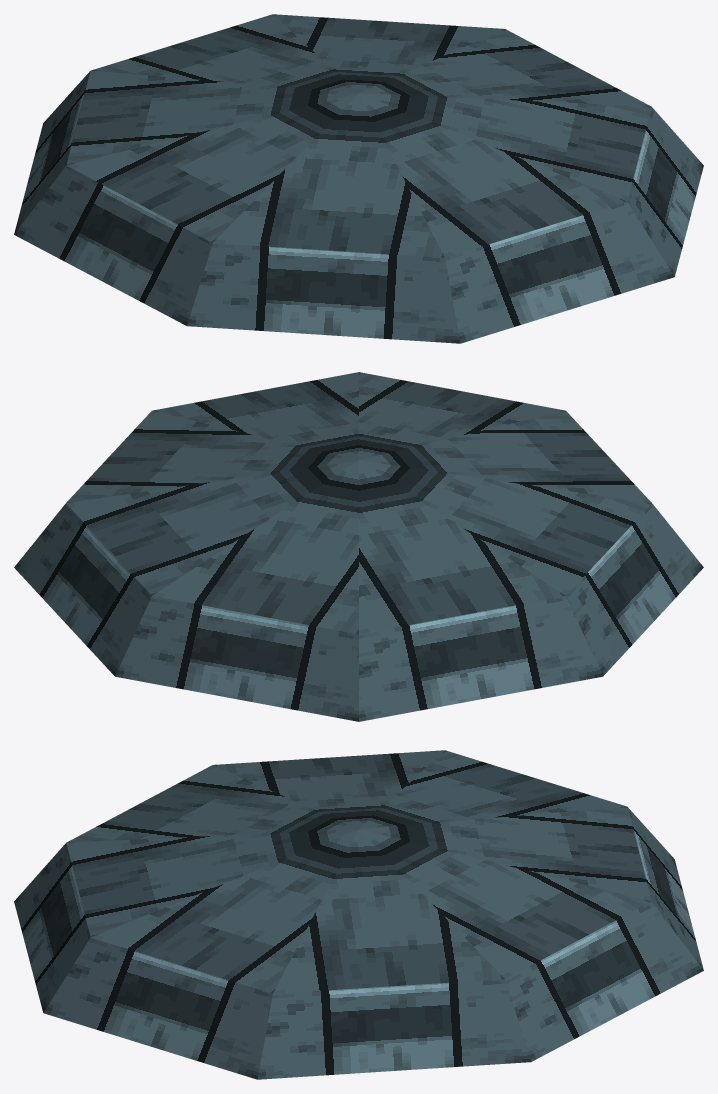
File: primary_105.glb
3 views of the same model, one above another, from view 1: azimuth 30°, elevation 25°; view 2: azimuth 150°, elevation 25°; view 3: azimuth 270°, elevation 25° (orthographic).
Visible parts, largest first — view 1: Object; view 2: Object; view 3: Object.
Boxes of the visible parts, <box> form: Object: <box>14,14,703,343</box>; Object: <box>14,372,703,721</box>; Object: <box>14,750,703,1079</box>.
Size of the model in its own units: 0.9522 by 0.1654 by 0.9669.
Materials: 2 (2 with a texture image).
